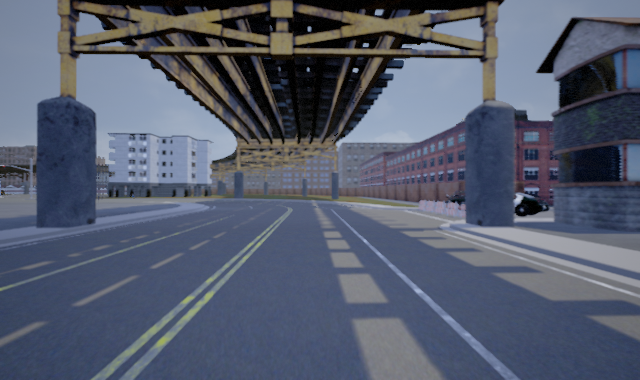vehicle: (467, 191, 549, 218)
